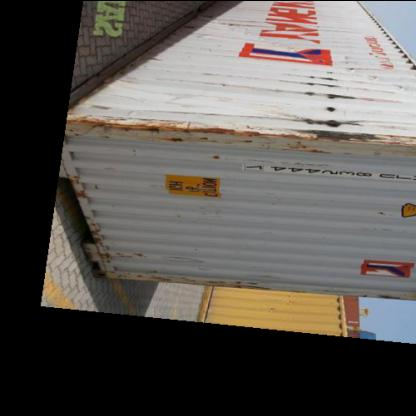Damage: (63, 117, 407, 167), (96, 267, 276, 296), (302, 66, 368, 112), (98, 240, 146, 268)
